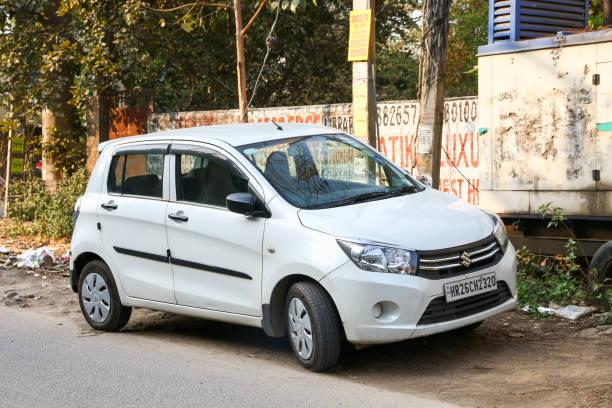suzuki: (455, 247, 479, 270)
